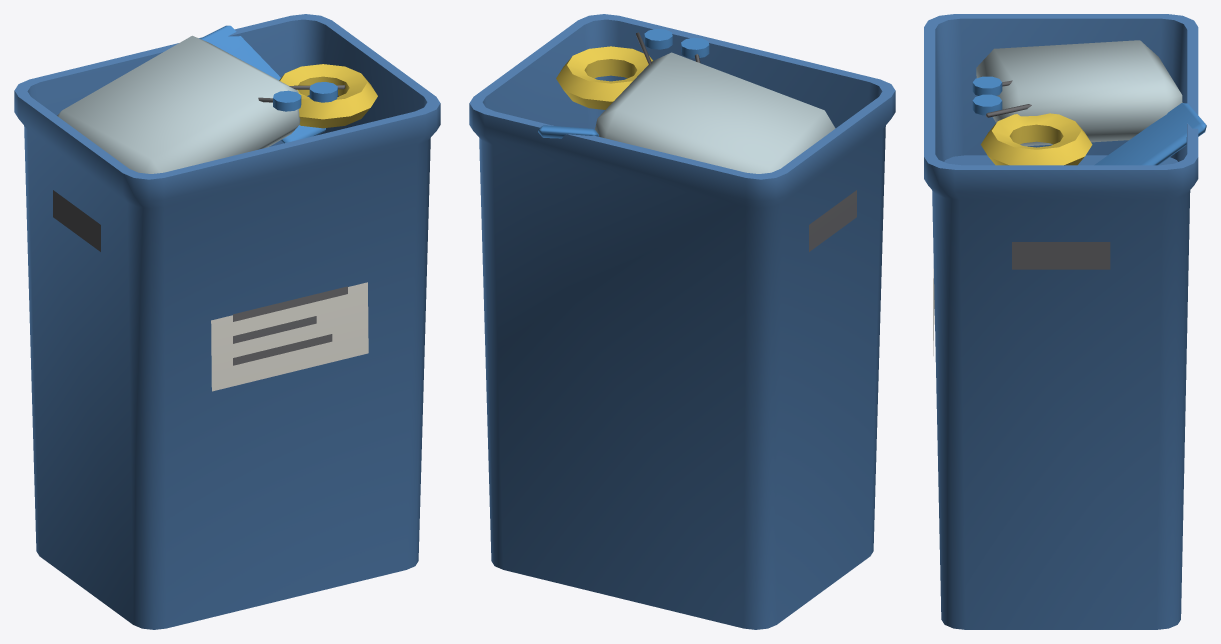
The model's file is lost_bin.glb.
3 renders of one model, left to right at view 1: azimuth 30°, elevation 25°; view 2: azimuth 150°, elevation 25°; view 3: azimuth 270°, elevation 25°, orthographic.
Visible parts, largest first — view 1: pool_lost_bin; view 2: pool_lost_bin; view 3: pool_lost_bin.
Part boxes in pixels (x1,y1,x2,y2): pool_lost_bin: (14,14,440,629); pool_lost_bin: (469,14,895,629); pool_lost_bin: (924,14,1206,629).
Bounding box in the file's own units: 0.6 × 0.878 × 0.46.
